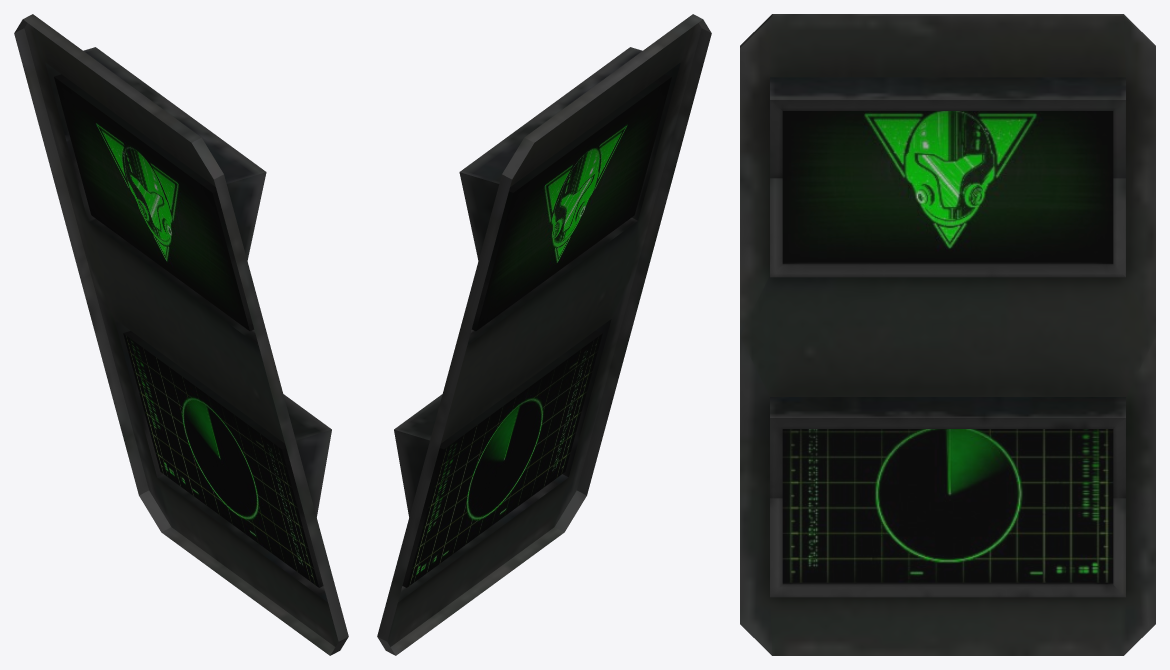
The model's file is ScreenSmall.FBX.
The picture shows the model from 3 angles, left to right: view 1: azimuth 30°, elevation 25°; view 2: azimuth 150°, elevation 25°; view 3: azimuth 270°, elevation 25°; orthographic projection. The views are drawn at different scales.
Parts seen in each view (by area): view 1: ScreenSmall; view 2: ScreenSmall; view 3: ScreenSmall.
Part boxes in pixels (x1,y1,x2,y2): ScreenSmall: (14,14,348,655); ScreenSmall: (377,14,711,655); ScreenSmall: (740,14,1155,655).
Bounding box in the file's own units: 14.15 × 49.98 × 32.92.
